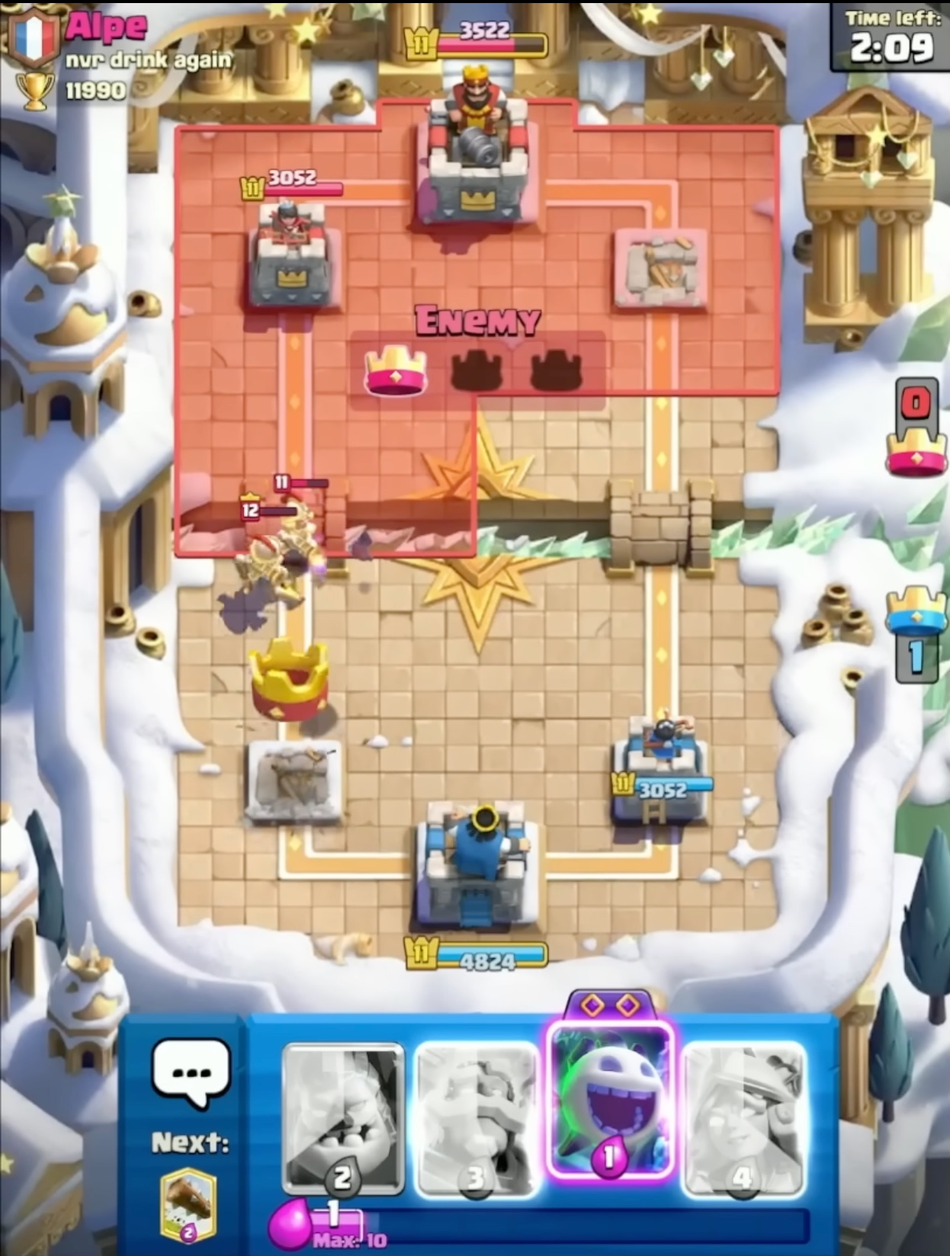hero-musketeer: (231, 487, 304, 610), (272, 462, 335, 573)
